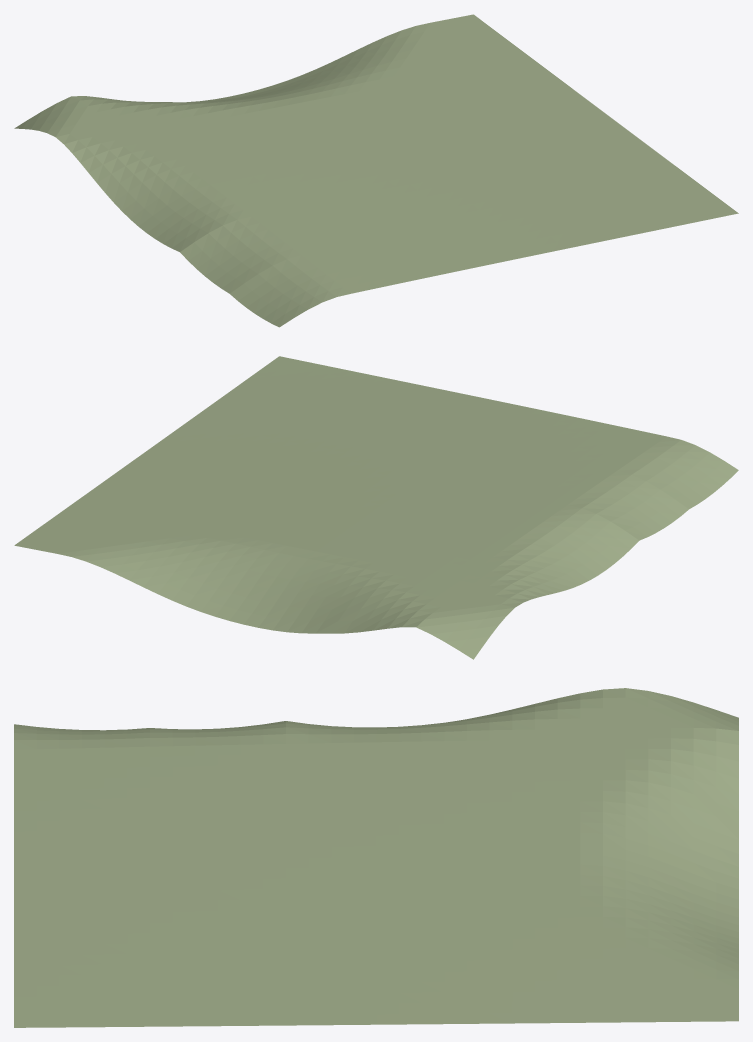
The model's file is gardens-2-2.glb.
3 views of the same model, one above another, from view 1: azimuth 30°, elevation 25°; view 2: azimuth 150°, elevation 25°; view 3: azimuth 270°, elevation 25° (orthographic). The views are drawn at different scales.
Visible parts, largest first — view 1: gardens-2-2; view 2: gardens-2-2; view 3: gardens-2-2.
Boxes of the visible parts, x1,y1,x2,y2 form: gardens-2-2: (14, 14, 738, 327); gardens-2-2: (14, 356, 738, 659); gardens-2-2: (14, 688, 738, 1027).
Bounding box in the file's own units: 256 × 22.72 × 256.
